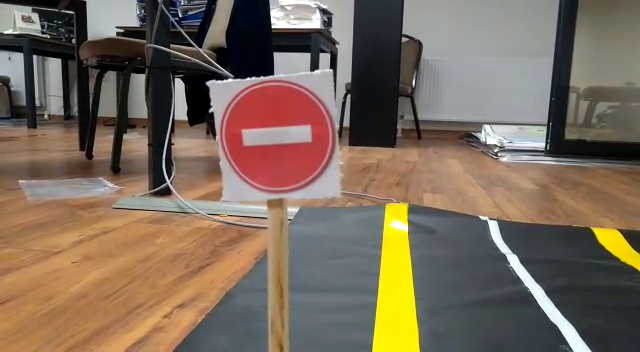girisi_olmayan_yol: (208, 82, 341, 196)
